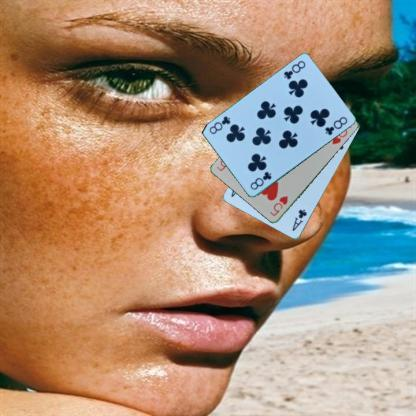5h: (267, 193, 289, 218)
8c: (281, 58, 307, 81), (247, 170, 273, 192)
Ac: (289, 207, 308, 232)
